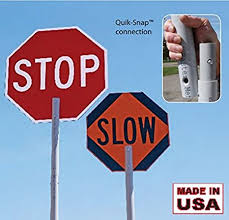Stop: (5, 22, 110, 119)
